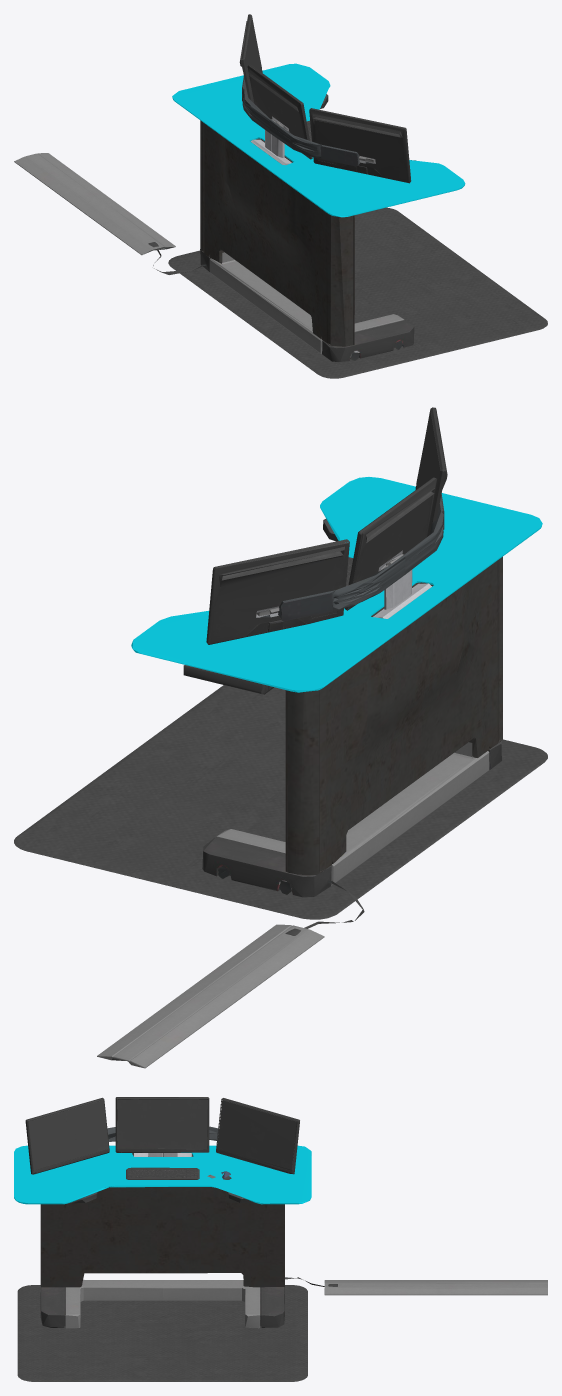
File: craft_r16_ley_junction.glb
3 renders of one model, top to bottom at view 1: azimuth 30°, elevation 25°; view 2: azimuth 150°, elevation 25°; view 3: azimuth 270°, elevation 25°, orthographic. The views are drawn at different scales.
Parts seen in each view (by area): view 1: craft_r16_ley_junction; view 2: craft_r16_ley_junction; view 3: craft_r16_ley_junction.
Part boxes in pixels (<box>): craft_r16_ley_junction: <box>14,14,547,378</box>; craft_r16_ley_junction: <box>14,407,547,1068</box>; craft_r16_ley_junction: <box>14,1097,547,1381</box>.
Bounding box in the file's own units: 1.66 × 1.5 × 3.62.
Materials: 7 (6 with a texture image).
